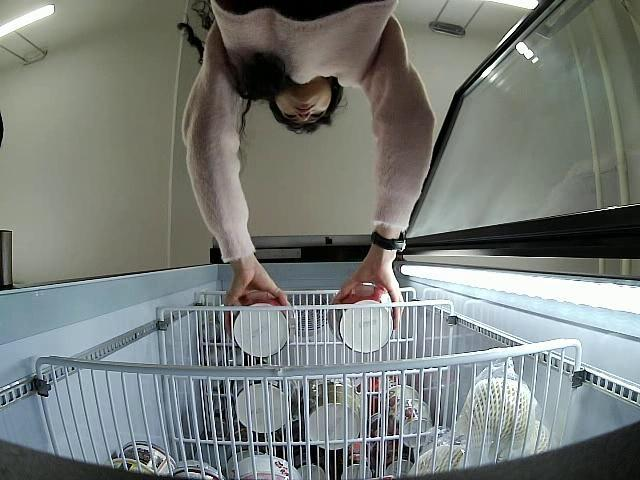01_ShinRamen_L: (329, 282, 395, 354), (230, 291, 296, 358)
